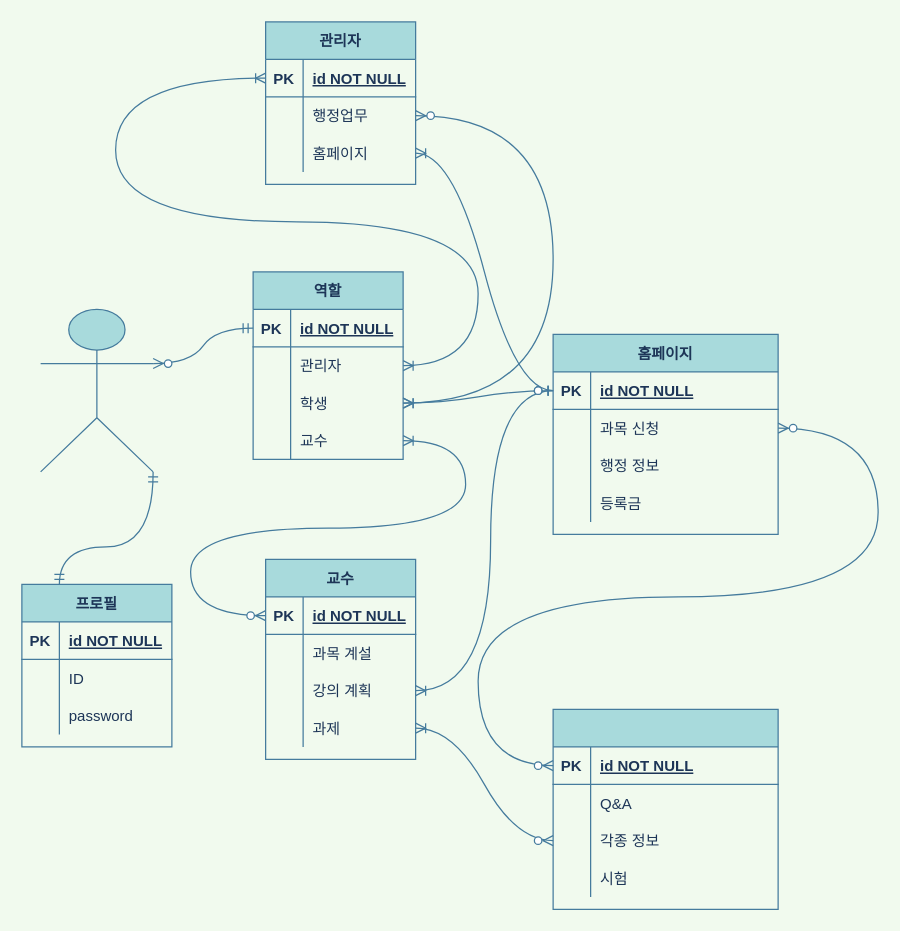
The diagram is 900 pixels wide and 931 high, and some of its shapes have lost their labels. Each missing label, with the box of its shape:
과목: (552, 708, 778, 909)
사용자(USER): (39, 308, 153, 472)
